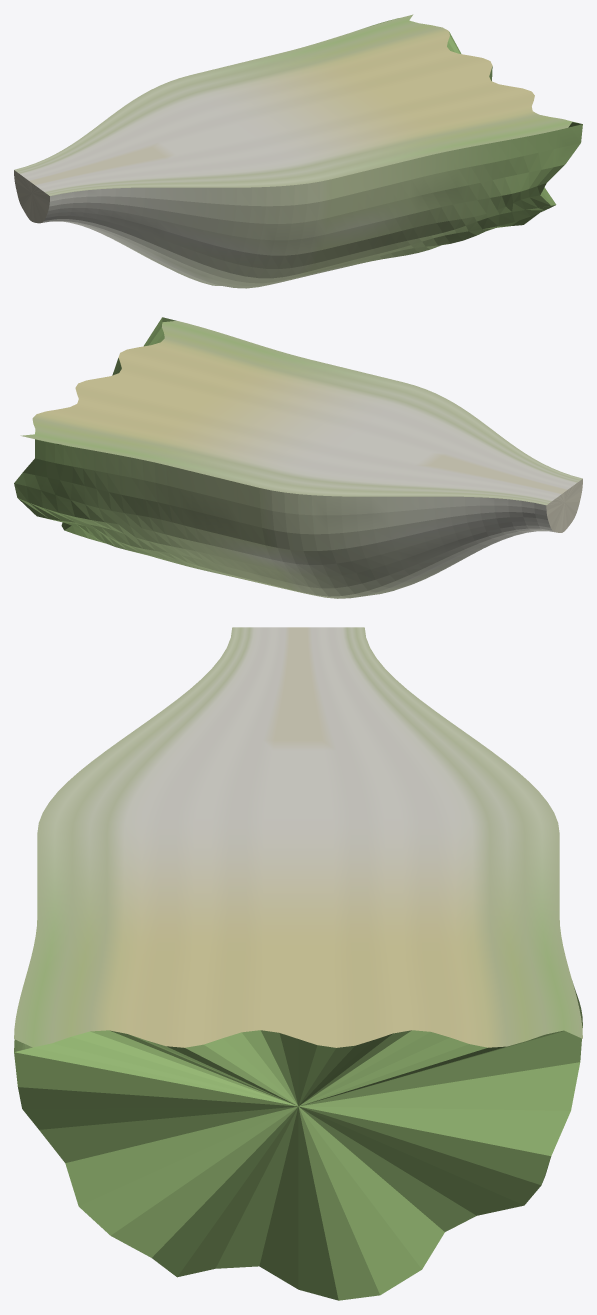
Rendered from cabbage.glb.
3 views of the same model, one above another, from view 1: azimuth 30°, elevation 25°; view 2: azimuth 150°, elevation 25°; view 3: azimuth 270°, elevation 25° (orthographic). The views are drawn at different scales.
Parts seen in each view (by area): view 1: cabbage; view 2: cabbage; view 3: cabbage.
Part boxes in pixels (<box>): cabbage: <box>14,14,582,288</box>; cabbage: <box>14,317,582,598</box>; cabbage: <box>14,627,582,1300</box>.
Size of the model in its own units: 2.58 by 0.739 by 1.46.
